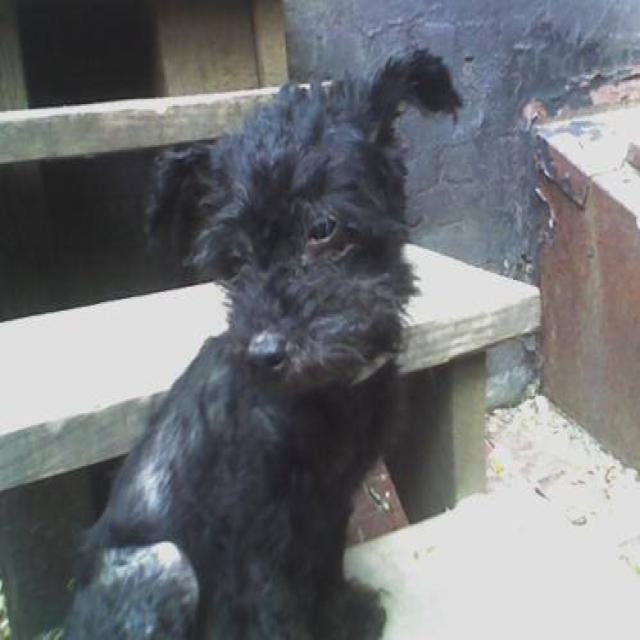dog: (57, 44, 464, 638)
